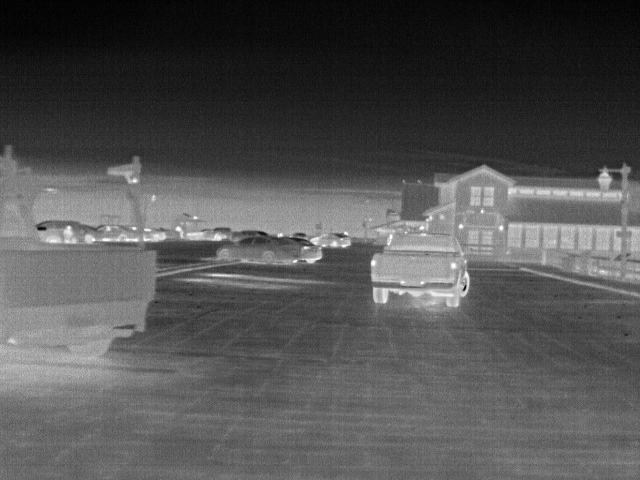car: (0, 171, 159, 357), (368, 230, 472, 308), (217, 236, 304, 267), (283, 236, 322, 266), (92, 223, 139, 244), (308, 230, 352, 250), (73, 221, 103, 247), (142, 225, 166, 243)
person: (61, 223, 75, 244)
